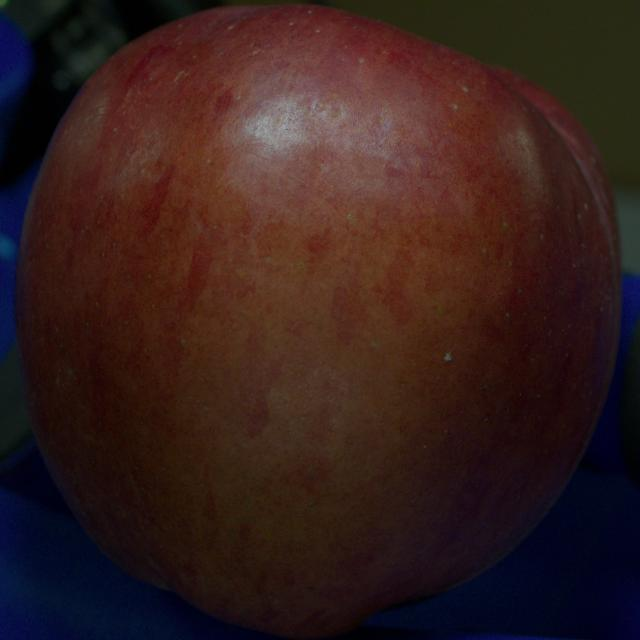apple: (16, 6, 621, 638)
